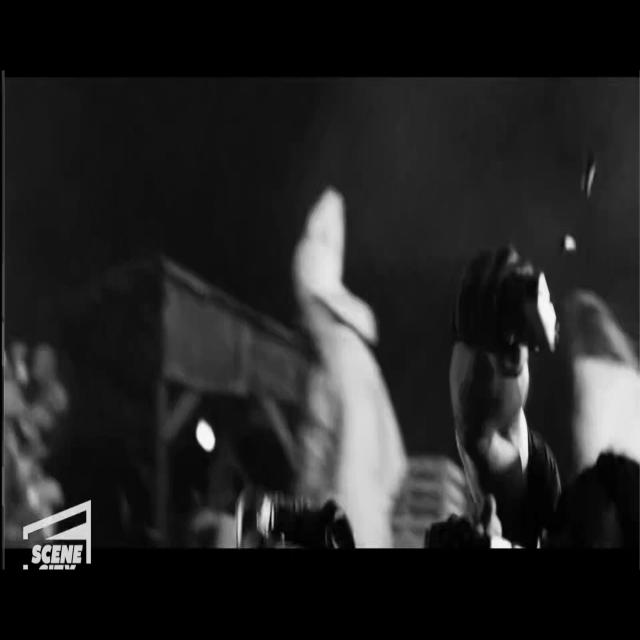weapons: (453, 245, 563, 376)
